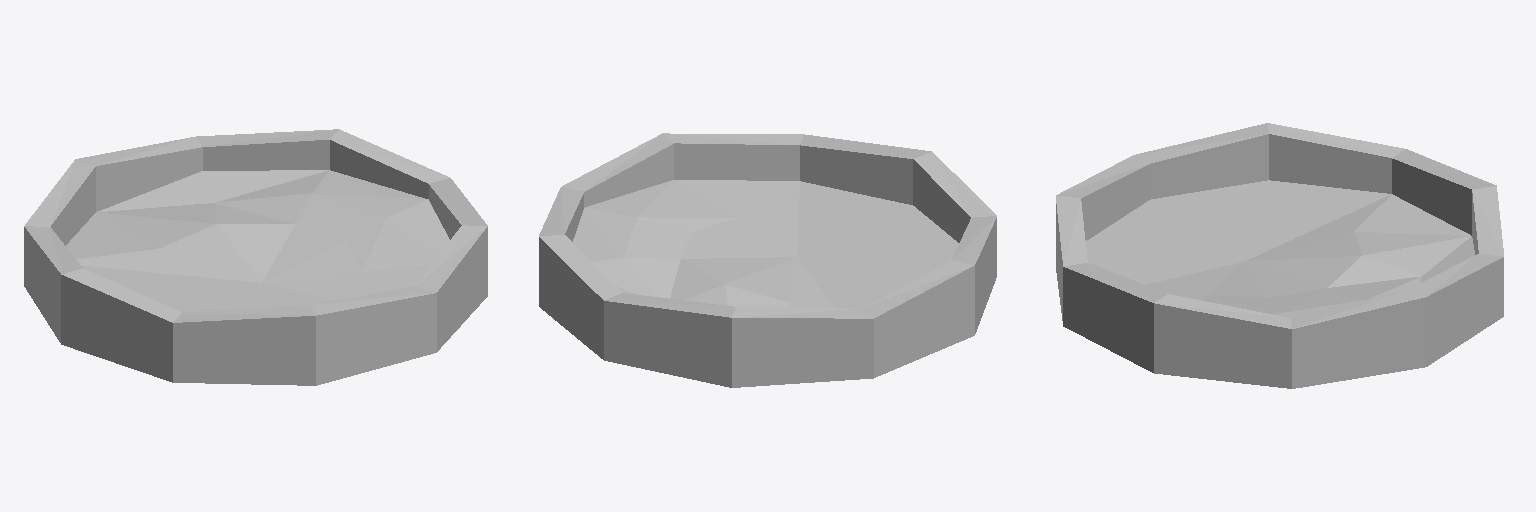
Rendered from ashtray.obj.
The picture shows the model from 3 angles: view 1: azimuth 30°, elevation 25°; view 2: azimuth 150°, elevation 25°; view 3: azimuth 270°, elevation 25°; orthographic projection.
Visible parts, largest first — view 1: ashtray_Cylinder.003; view 2: ashtray_Cylinder.003; view 3: ashtray_Cylinder.003.
Boxes of the visible parts, x1=… form: ashtray_Cylinder.003: x1=24, y1=129, x2=487, y2=385; ashtray_Cylinder.003: x1=539, y1=133, x2=996, y2=387; ashtray_Cylinder.003: x1=1056, y1=123, x2=1503, y2=388.
Bounding box in the file's own units: 0.3876 × 0.0647 × 0.375.